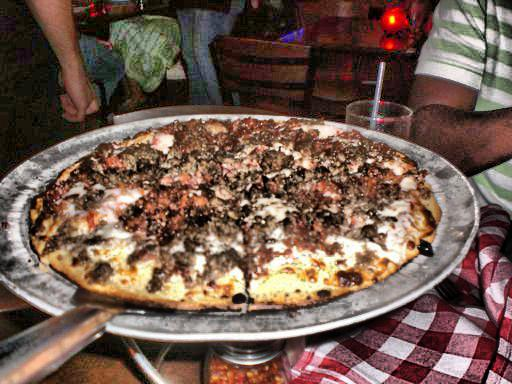pizza: (49, 113, 441, 295)
